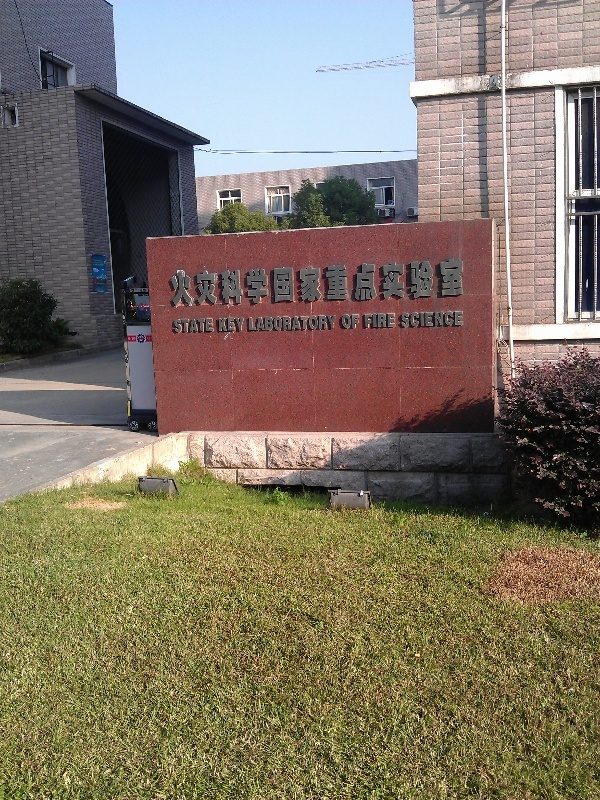text: (177, 258, 192, 310), (193, 258, 208, 310), (209, 258, 224, 310), (225, 258, 240, 310), (241, 258, 256, 310), (257, 258, 272, 310), (273, 258, 288, 310), (289, 258, 304, 310), (305, 258, 320, 310), (321, 258, 336, 310), (337, 258, 352, 310), (353, 258, 368, 310), (369, 258, 384, 310), (385, 258, 400, 310), (401, 258, 416, 310), (417, 258, 432, 310), (433, 258, 448, 310), (449, 258, 464, 310), (170, 258, 176, 310), (321, 315, 337, 333), (257, 315, 272, 333), (273, 315, 288, 333), (289, 315, 304, 333), (305, 315, 320, 333), (401, 311, 416, 328), (417, 311, 432, 328), (433, 311, 448, 328), (449, 311, 464, 328), (177, 318, 192, 334), (193, 318, 208, 334), (369, 313, 384, 329), (225, 317, 240, 332), (385, 313, 397, 329), (341, 314, 352, 330), (248, 315, 256, 333), (353, 314, 360, 330), (217, 317, 224, 332), (209, 318, 215, 334), (172, 318, 176, 334), (241, 317, 245, 332), (465, 258, 466, 310), (147, 337, 160, 341), (365, 313, 368, 329), (129, 337, 136, 341)
